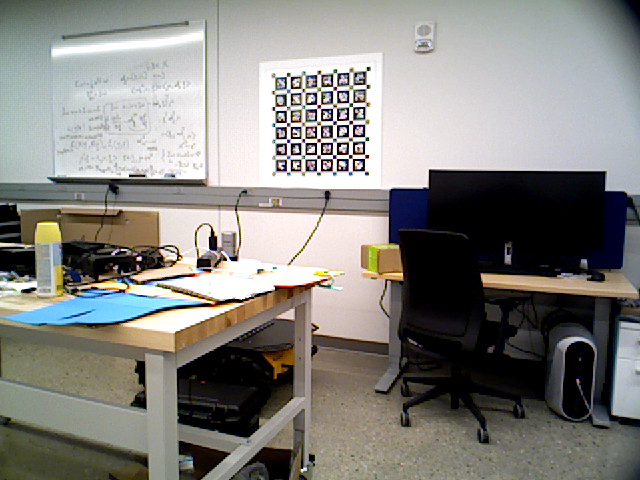painting4: (256, 54, 383, 190)
